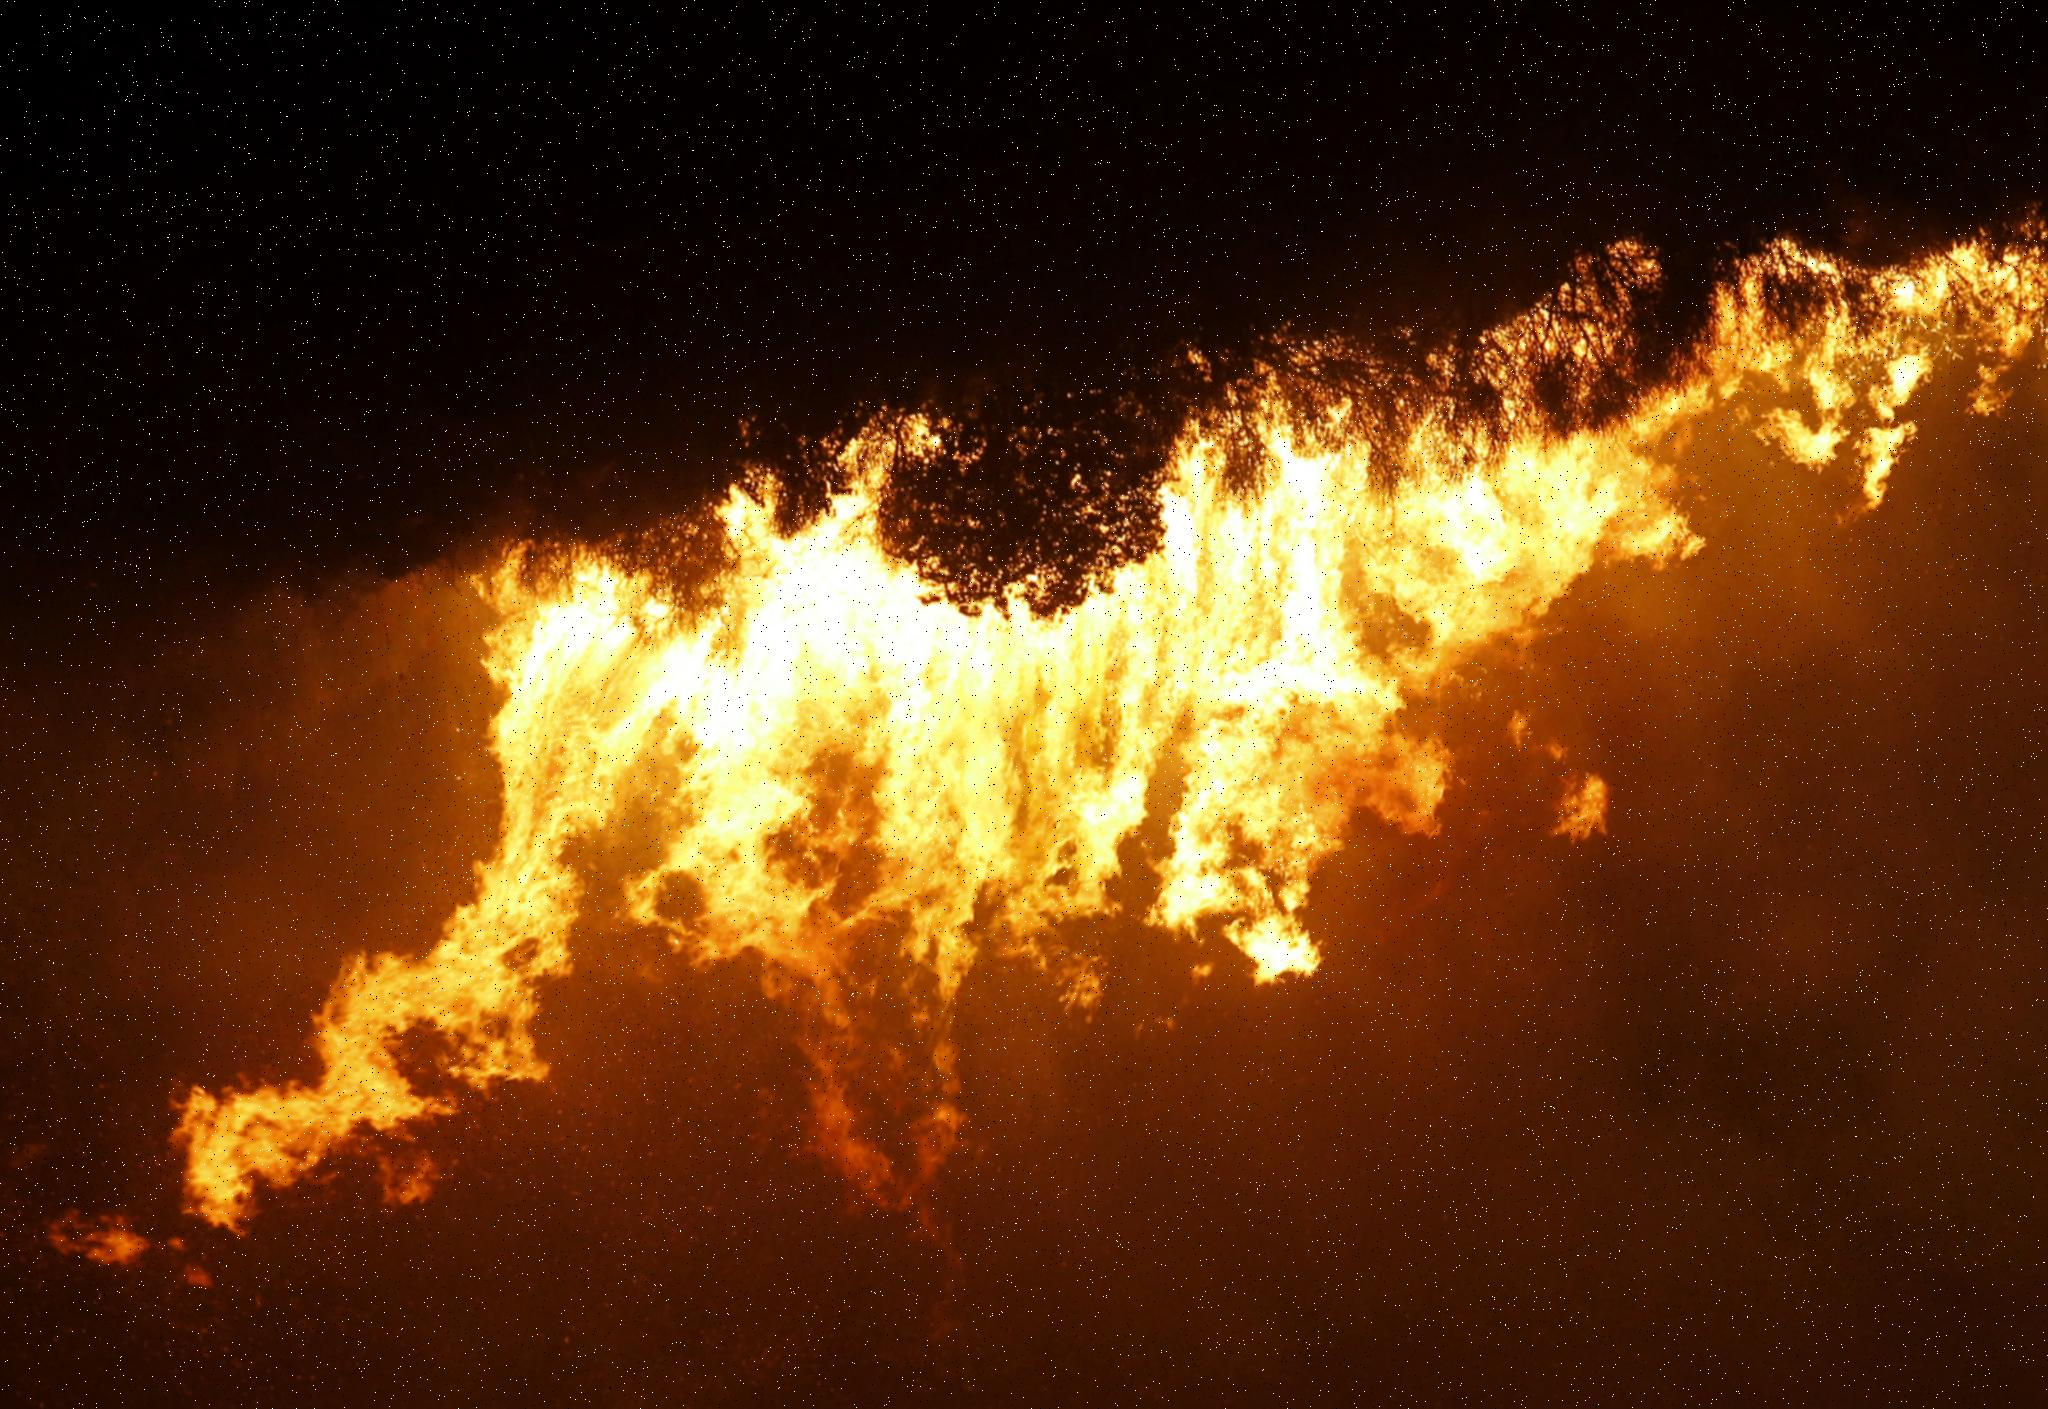fire: (104, 193, 2048, 1267)
